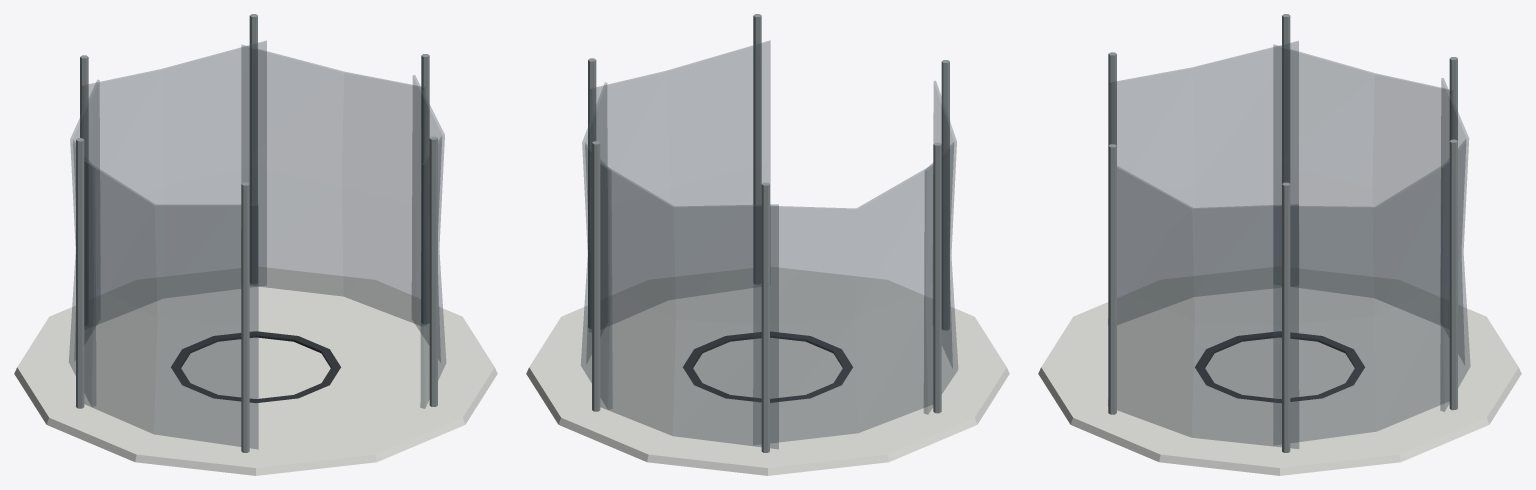
Rendered from discus-cage-2e0e7b.glb.
The picture shows the model from 3 angles, left to right: view 1: azimuth 30°, elevation 25°; view 2: azimuth 150°, elevation 25°; view 3: azimuth 270°, elevation 25°; orthographic projection.
Visible parts, largest first — view 1: net-skin-mesh, cage-structure; view 2: net-skin-mesh, cage-structure; view 3: net-skin-mesh, cage-structure.
Boxes of the visible parts, x1,y1,x2,y2 form: net-skin-mesh: (69, 40, 445, 449); cage-structure: (14, 14, 497, 475); net-skin-mesh: (581, 40, 957, 448); cage-structure: (526, 14, 1009, 475); net-skin-mesh: (1109, 41, 1470, 448); cage-structure: (1038, 14, 1521, 475).
Size of the model in its own units: 8 by 5 by 8.
